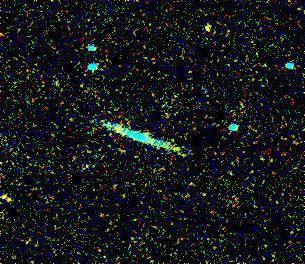star: (101, 113, 131, 143)
